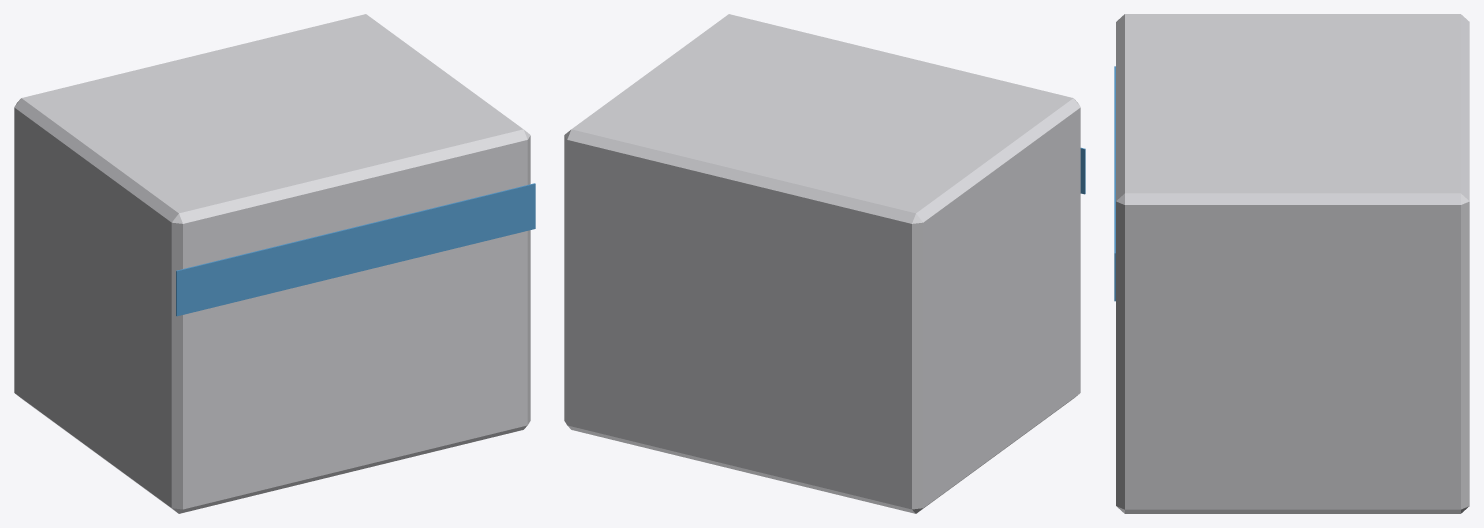
Rendered from sm_container_thermal_box.glb.
3 renders of one model, left to right at view 1: azimuth 30°, elevation 25°; view 2: azimuth 150°, elevation 25°; view 3: azimuth 270°, elevation 25°, orthographic. The views are drawn at different scales.
Parts seen in each view (by area): view 1: thermal_box, thermal_box_band; view 2: thermal_box; view 3: thermal_box, thermal_box_band.
Part boxes in pixels (x1,y1,x2,y2): thermal_box: (14,14,530,513); thermal_box_band: (176,183,535,316); thermal_box: (564,14,1080,513); thermal_box: (1116,14,1469,513); thermal_box_band: (1114,66,1115,301).
Size of what is drawn, in the model's own units: 0.5 by 0.4 by 0.402.
